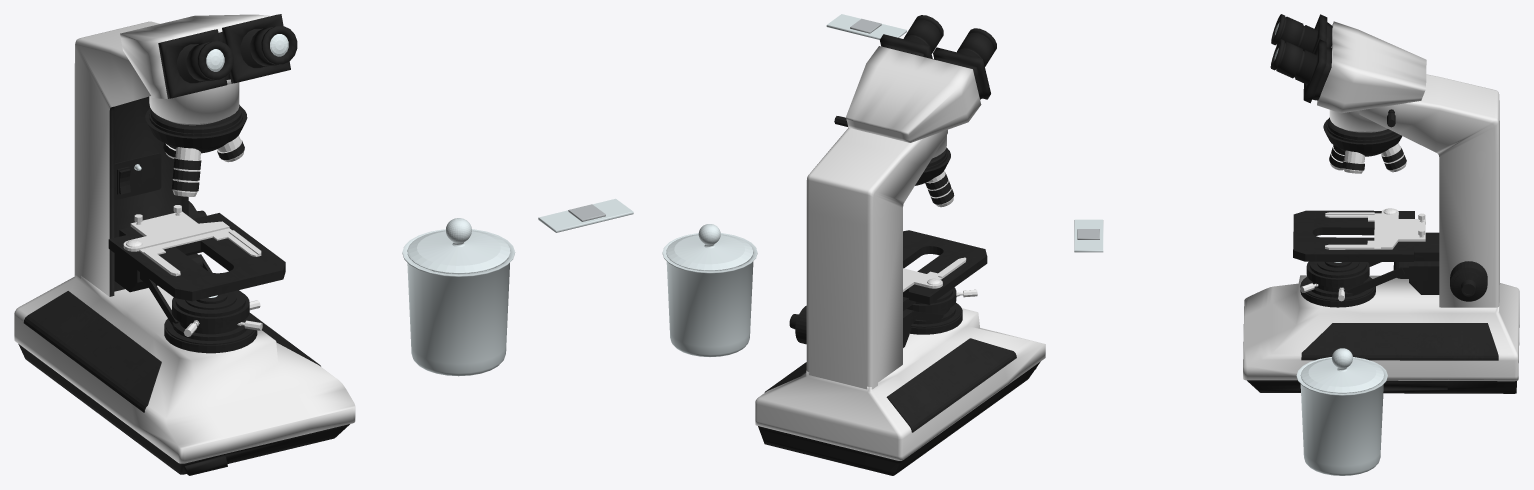
The model's file is 001-3-xianweijing—fujia.FBX.
3 renders of one model, left to right at view 1: azimuth 30°, elevation 25°; view 2: azimuth 150°, elevation 25°; view 3: azimuth 270°, elevation 25°, orthographic. The views are drawn at different scales.
Parts seen in each view (by area): view 1: desirefx.me_002, hx_fyl_ysc_01, hx_jcyql_ldj; view 2: desirefx.me_002, hx_fyl_ysc_01, hx_jcyql_ldj; view 3: desirefx.me_002, hx_fyl_ysc_01, hx_jcyql_ldj.
Boxes of the visible parts, x1=… form: desirefx.me_002: x1=14, y1=14, x2=355, y2=475; hx_fyl_ysc_01: x1=402, y1=218, x2=515, y2=376; hx_jcyql_ldj: x1=538, y1=198, x2=633, y2=232; desirefx.me_002: x1=755, y1=15, x2=1045, y2=475; hx_fyl_ysc_01: x1=662, y1=224, x2=757, y2=356; hx_jcyql_ldj: x1=826, y1=14, x2=906, y2=39; desirefx.me_002: x1=1243, y1=14, x2=1519, y2=393; hx_fyl_ysc_01: x1=1296, y1=348, x2=1387, y2=475; hx_jcyql_ldj: x1=1074, y1=219, x2=1103, y2=252.
Bounding box in the file's own units: 3.49 × 3.55 × 4.28.
Materials: 5 (4 with a texture image).
